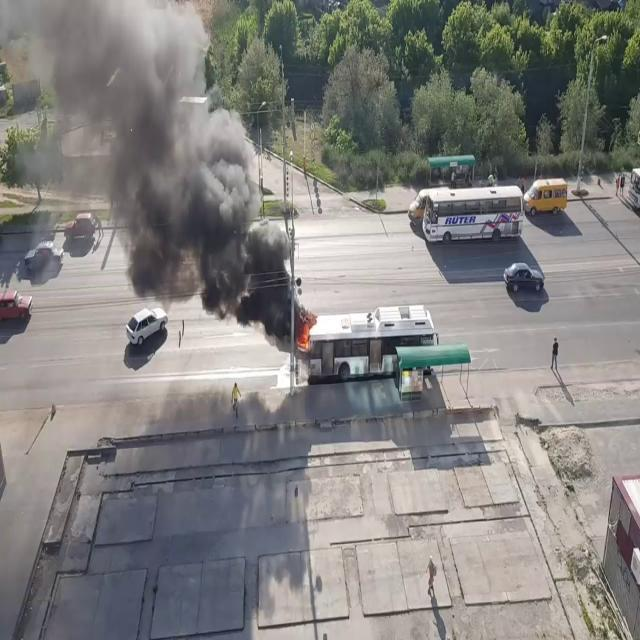Fire: (299, 308, 320, 355)
Smoke: (22, 1, 300, 322)
